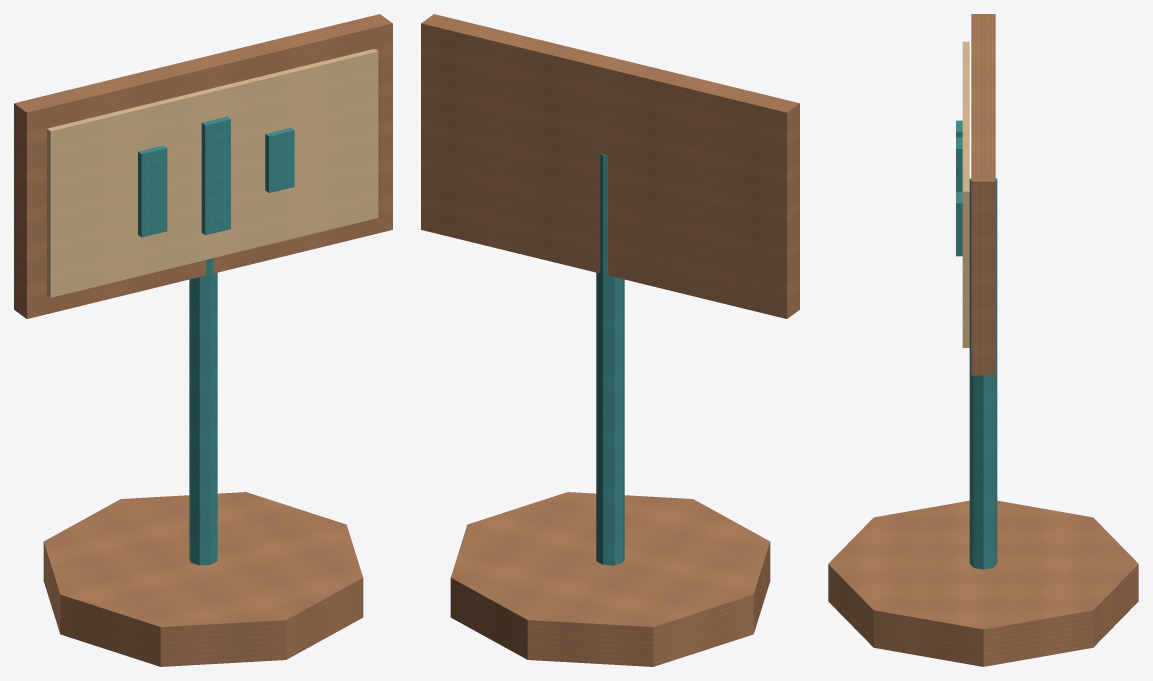
Rendered from atlas100-s091-a11.glb.
The picture shows the model from 3 angles, left to right: view 1: azimuth 30°, elevation 25°; view 2: azimuth 150°, elevation 25°; view 3: azimuth 270°, elevation 25°; orthographic projection. The views are drawn at different scales.
Visible parts, largest first — view 1: atlas100-s091-a11:part-003, atlas100-s091-a11:part-000, atlas100-s091-a11:part-002, atlas100-s091-a11:part-001, atlas100-s091-a11:part-005, atlas100-s091-a11:part-004, atlas100-s091-a11:part-006; view 2: atlas100-s091-a11:part-002, atlas100-s091-a11:part-000, atlas100-s091-a11:part-001; view 3: atlas100-s091-a11:part-000, atlas100-s091-a11:part-002, atlas100-s091-a11:part-001, atlas100-s091-a11:part-003, atlas100-s091-a11:part-006.
Boxes of the visible parts, left/top/right/bottom form: atlas100-s091-a11:part-003: left=47, top=48, right=378, bottom=297; atlas100-s091-a11:part-000: left=43, top=492, right=363, bottom=666; atlas100-s091-a11:part-002: left=14, top=14, right=392, bottom=318; atlas100-s091-a11:part-001: left=189, top=258, right=217, bottom=565; atlas100-s091-a11:part-005: left=201, top=116, right=230, bottom=235; atlas100-s091-a11:part-004: left=138, top=145, right=167, bottom=237; atlas100-s091-a11:part-006: left=265, top=127, right=294, bottom=192; atlas100-s091-a11:part-002: left=421, top=14, right=799, bottom=318; atlas100-s091-a11:part-000: left=450, top=492, right=770, bottom=666; atlas100-s091-a11:part-001: left=596, top=154, right=624, bottom=565; atlas100-s091-a11:part-000: left=828, top=500, right=1138, bottom=666; atlas100-s091-a11:part-002: left=971, top=14, right=995, bottom=375; atlas100-s091-a11:part-001: left=969, top=178, right=997, bottom=569; atlas100-s091-a11:part-003: left=962, top=41, right=969, bottom=347; atlas100-s091-a11:part-006: left=956, top=191, right=962, bottom=256.
Bounding box in the file's own units: 1.15 × 1.61 × 0.9.
3 materials, 3 textured.
